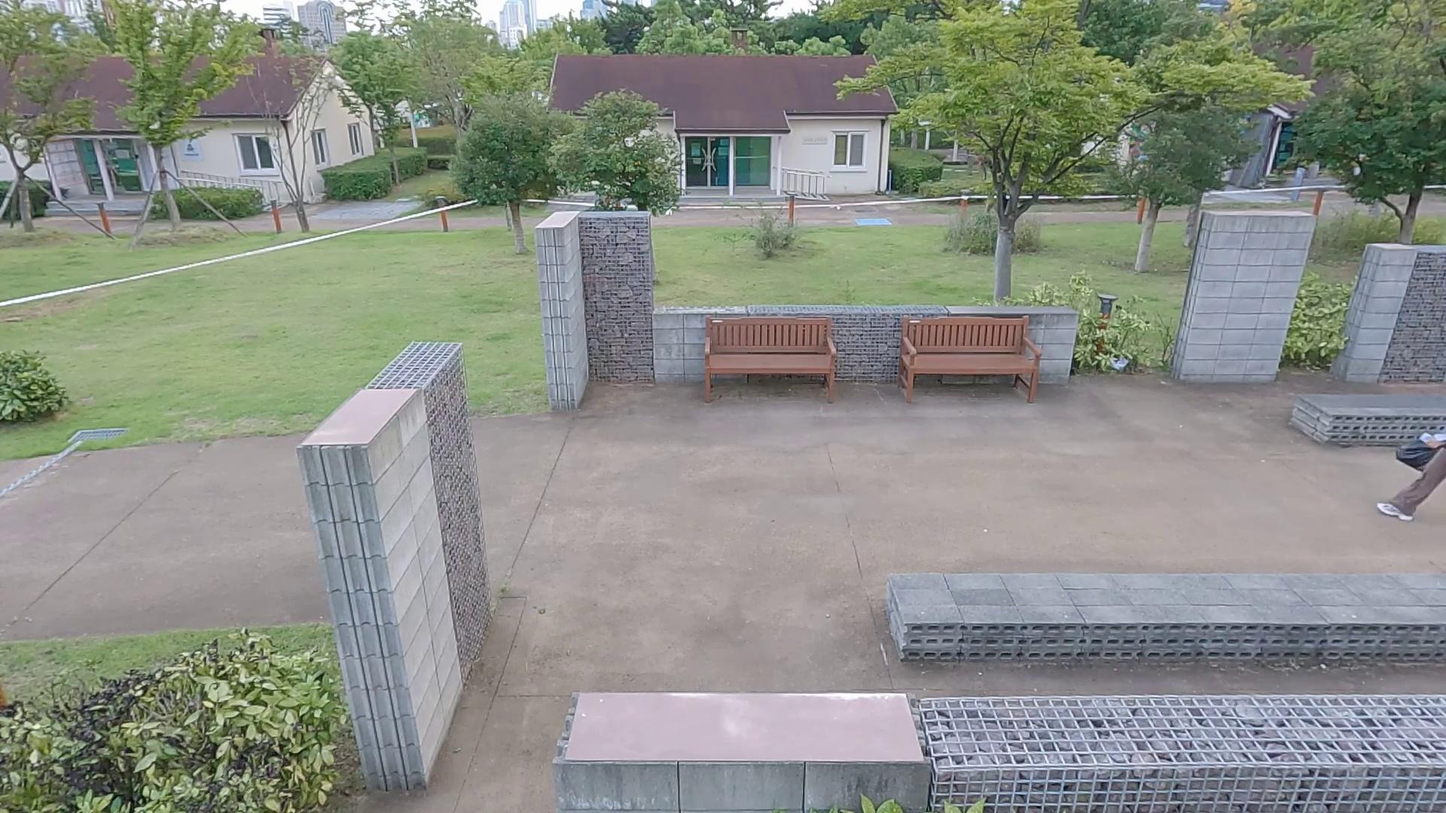person: (1371, 419, 1446, 530)
trash: (1393, 431, 1443, 477)
